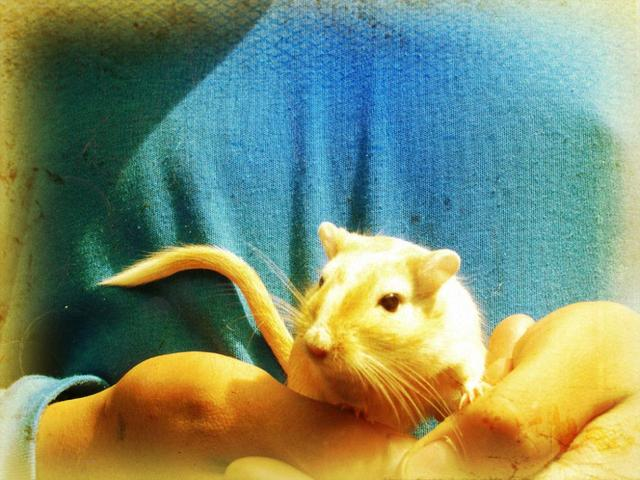mouse: (117, 234, 532, 424)
